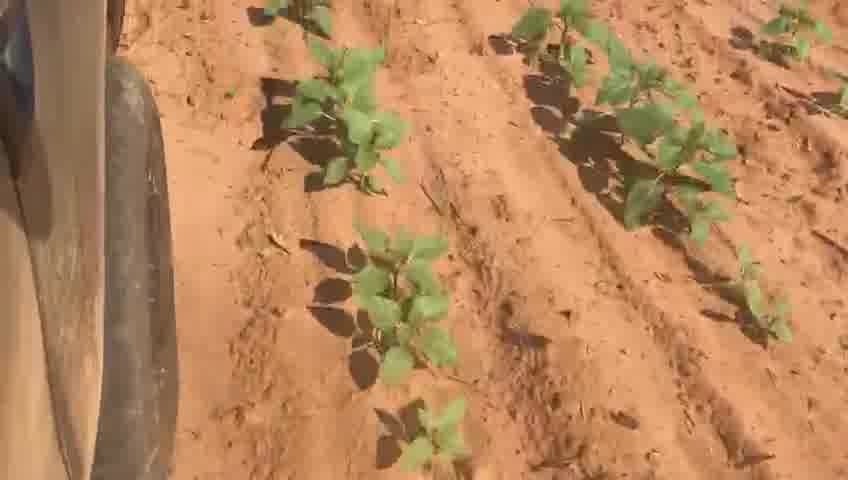sunflower: (615, 112, 742, 231), (577, 62, 699, 160), (515, 6, 639, 94), (289, 47, 392, 141), (342, 229, 457, 310), (315, 105, 411, 197), (363, 294, 461, 383), (384, 398, 478, 470), (727, 255, 800, 343), (764, 9, 840, 66)
